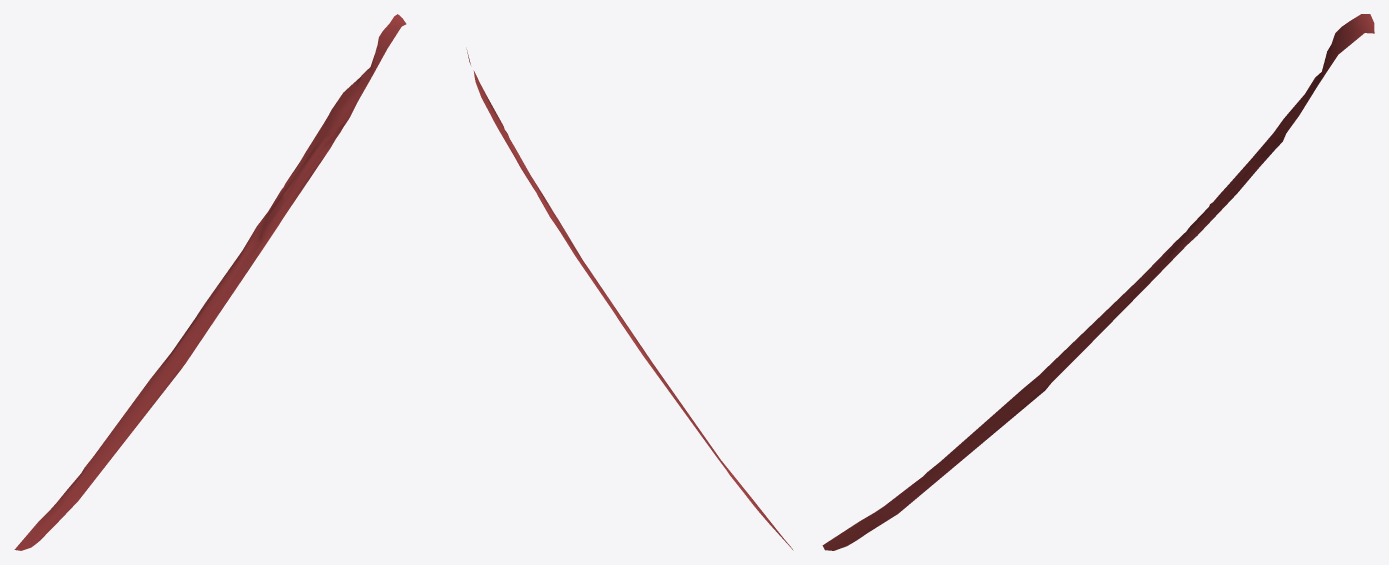
File: external-abdominal-oblique-muscle-o5l.glb
The picture shows the model from 3 angles, left to right: view 1: azimuth 30°, elevation 25°; view 2: azimuth 150°, elevation 25°; view 3: azimuth 330°, elevation 25°; orthographic projection. The views are drawn at different scales.
Visible parts, largest first — view 1: External abdominal oblique muscle.o5l; view 2: External abdominal oblique muscle.o5l; view 3: External abdominal oblique muscle.o5l.
Part boxes in pixels (x1,y1,x2,y2): External abdominal oblique muscle.o5l: [14, 14, 406, 550]; External abdominal oblique muscle.o5l: [466, 49, 793, 550]; External abdominal oblique muscle.o5l: [822, 14, 1374, 550].
Size of the model in its own units: 0.0689 by 0.0784 by 0.00486.
